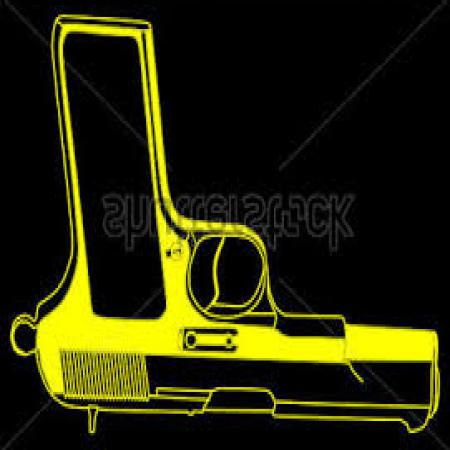Pistol: (12, 14, 438, 448)
